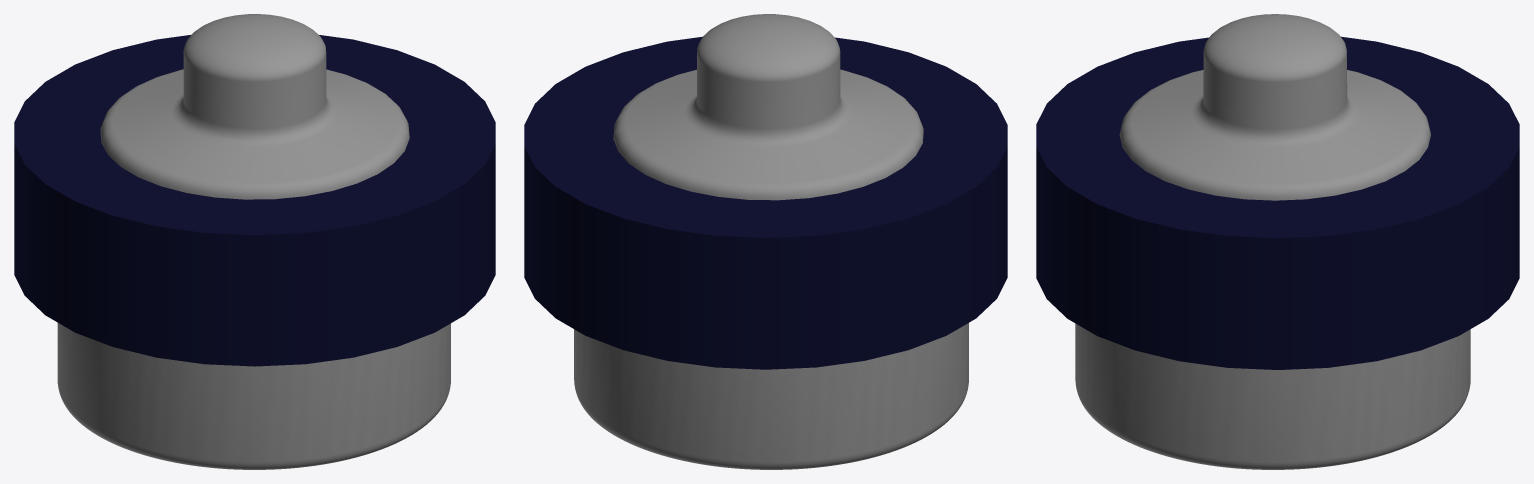
Rendered from WireWay_1.FBX.
3 views of the same model, side by side, from view 1: azimuth 30°, elevation 25°; view 2: azimuth 150°, elevation 25°; view 3: azimuth 270°, elevation 25° (orthographic).
Parts seen in each view (by area): view 1: Cylinder001, ButtonUp, ButtonDown; view 2: Cylinder001, ButtonUp, ButtonDown; view 3: Cylinder001, ButtonUp, ButtonDown.
Boxes of the visible parts, x1,y1,x2,y2 form: Cylinder001: [14, 34, 495, 366]; ButtonUp: [100, 14, 409, 199]; ButtonDown: [57, 323, 450, 469]; Cylinder001: [524, 36, 1007, 369]; ButtonUp: [613, 14, 923, 200]; ButtonDown: [574, 323, 968, 469]; Cylinder001: [1036, 36, 1519, 369]; ButtonUp: [1119, 14, 1430, 200]; ButtonDown: [1075, 323, 1470, 469].
Size of the model in its own units: 16.26 by 13.37 by 16.17.
